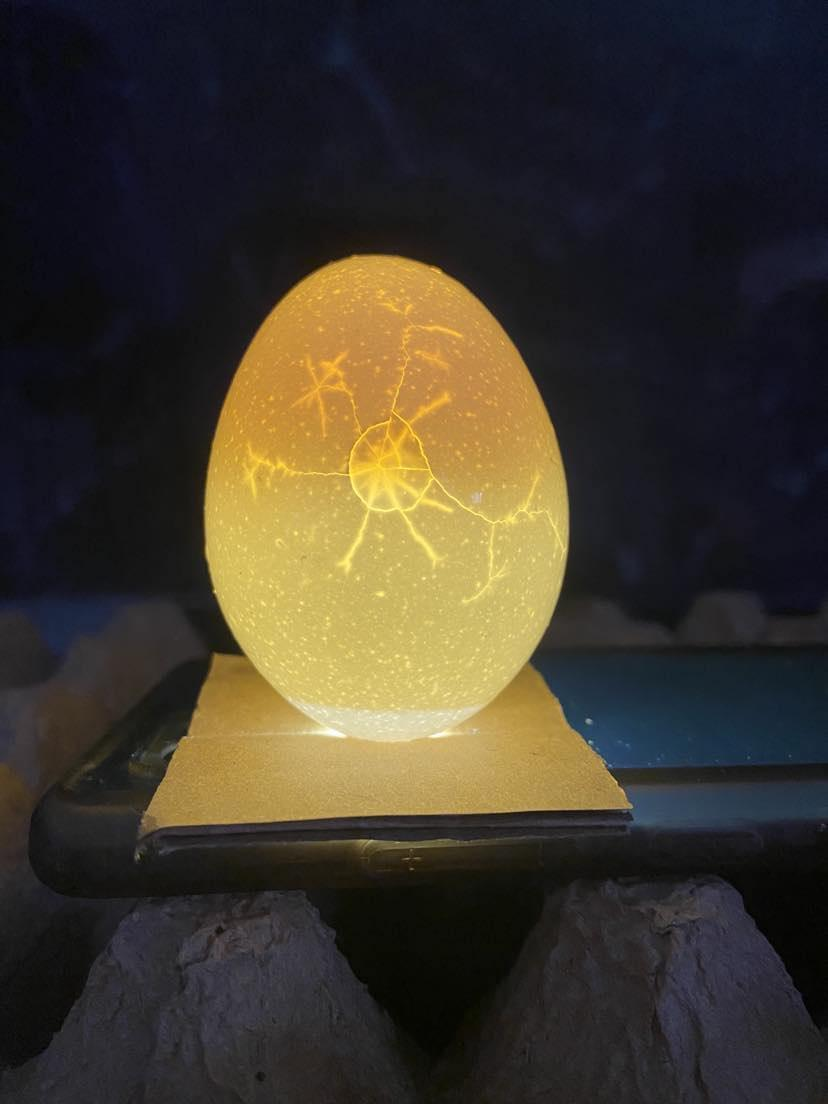B - Fair: (203, 247, 577, 743)
